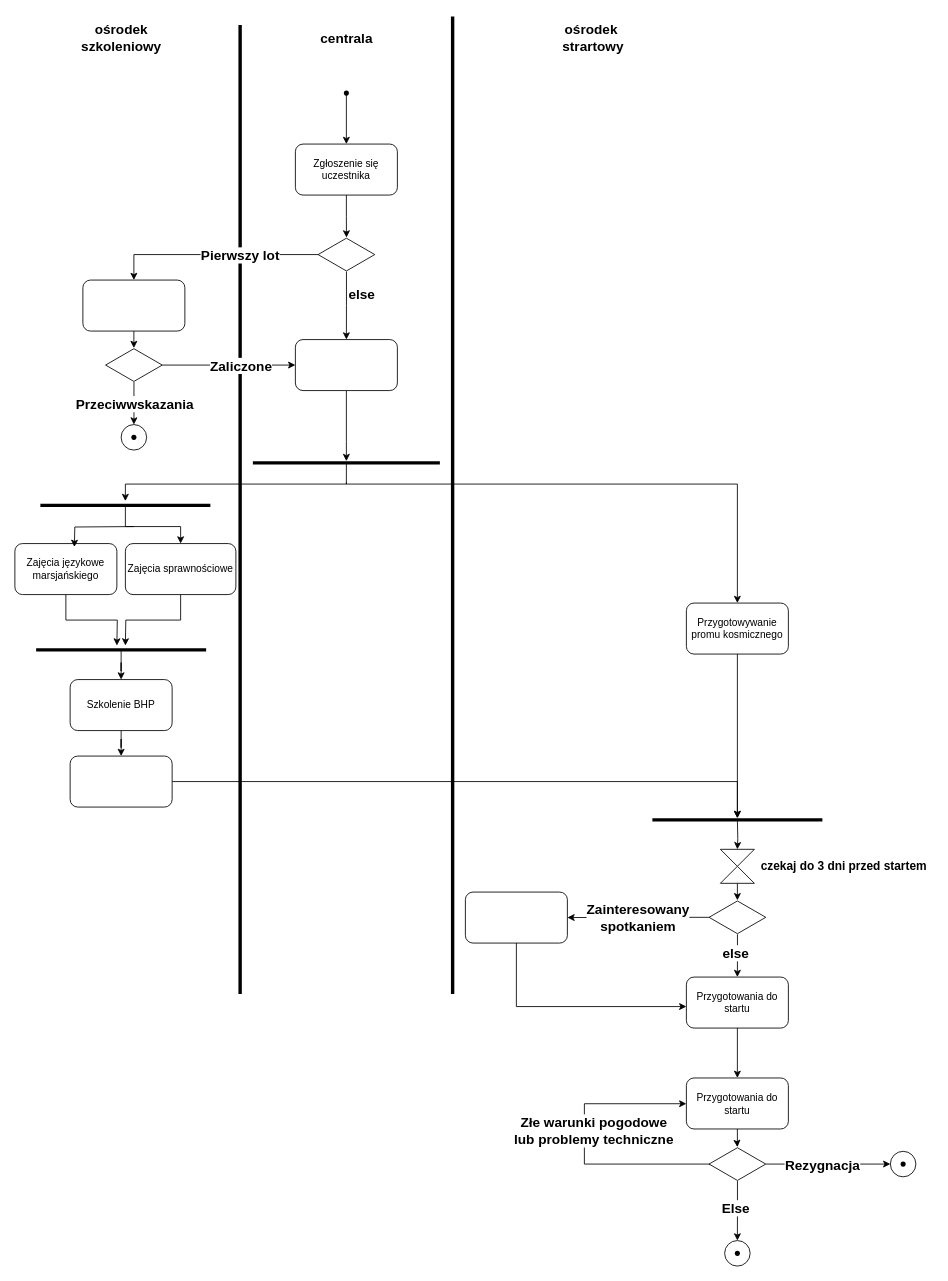
The diagram is 948 pixels wide and 1281 high, and some of its shapes have lost their labels. The box of each missing label's shape, as (x1, y1, x2, y2) in pixels:
Badanie lekarskie: (82, 279, 185, 331)
Podpisanie umowy z pracodawcą: (295, 339, 397, 391)
Przygotowania do przenosin do ośrodka startowego: (69, 755, 172, 807)
Spotkanie z bliskimi: (465, 891, 567, 943)
